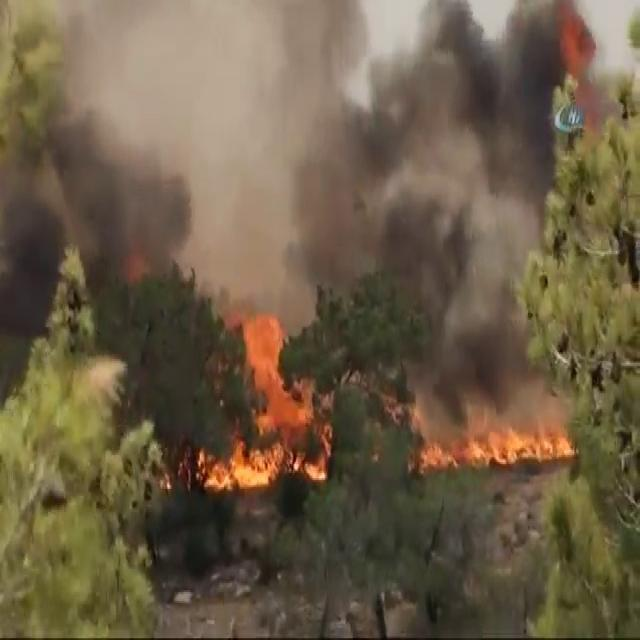Fire: (192, 312, 330, 494), (408, 392, 576, 490), (558, 0, 604, 128), (197, 442, 277, 493), (156, 433, 200, 498), (125, 252, 149, 286)
Smoke: (341, 0, 551, 361), (8, 0, 254, 236), (269, 0, 448, 277), (0, 66, 114, 372)
